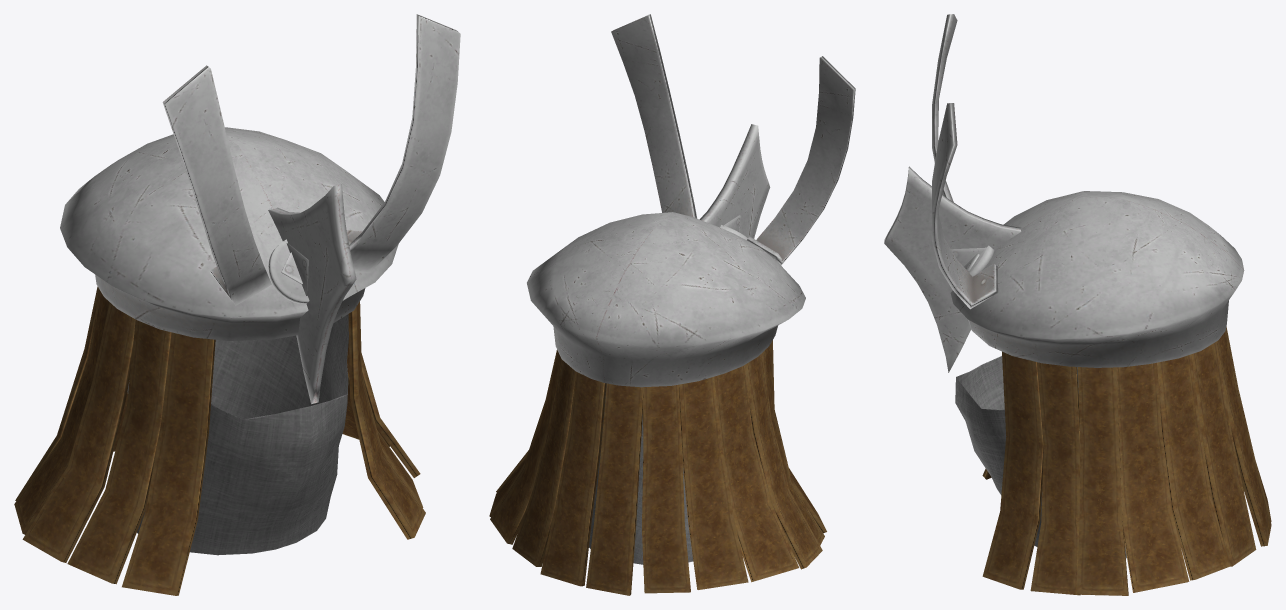
The model's file is easterling02_v1_helmet.fbx.
3 renders of one model, left to right at view 1: azimuth 30°, elevation 25°; view 2: azimuth 150°, elevation 25°; view 3: azimuth 270°, elevation 25°, orthographic. The views are drawn at different scales.
Parts seen in each view (by area): view 1: easterling02_v1_helmet; view 2: easterling02_v1_helmet; view 3: easterling02_v1_helmet.
Part boxes in pixels (<box>): easterling02_v1_helmet: <box>14,14,460,595</box>; easterling02_v1_helmet: <box>489,14,855,595</box>; easterling02_v1_helmet: <box>884,14,1271,595</box>.
Bounding box in the file's own units: 0.3661 × 0.374 × 0.5007.
1 material, 1 textured.
